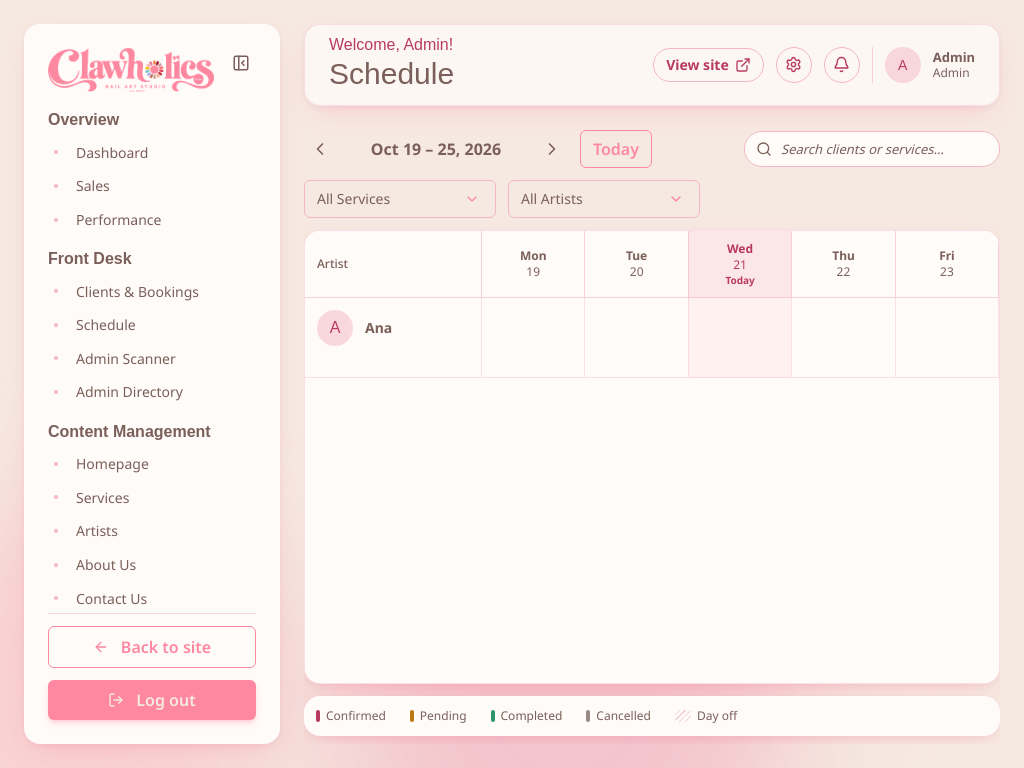
Test: Schedule on a phone › on desktop, moves a week at a time, loading both months when a week spans two
Check: the table named "Week schedule" is shown, box [305,230,1000,378]
Click the button named "Next week".
click(552, 148)  # box [536,132,568,164]
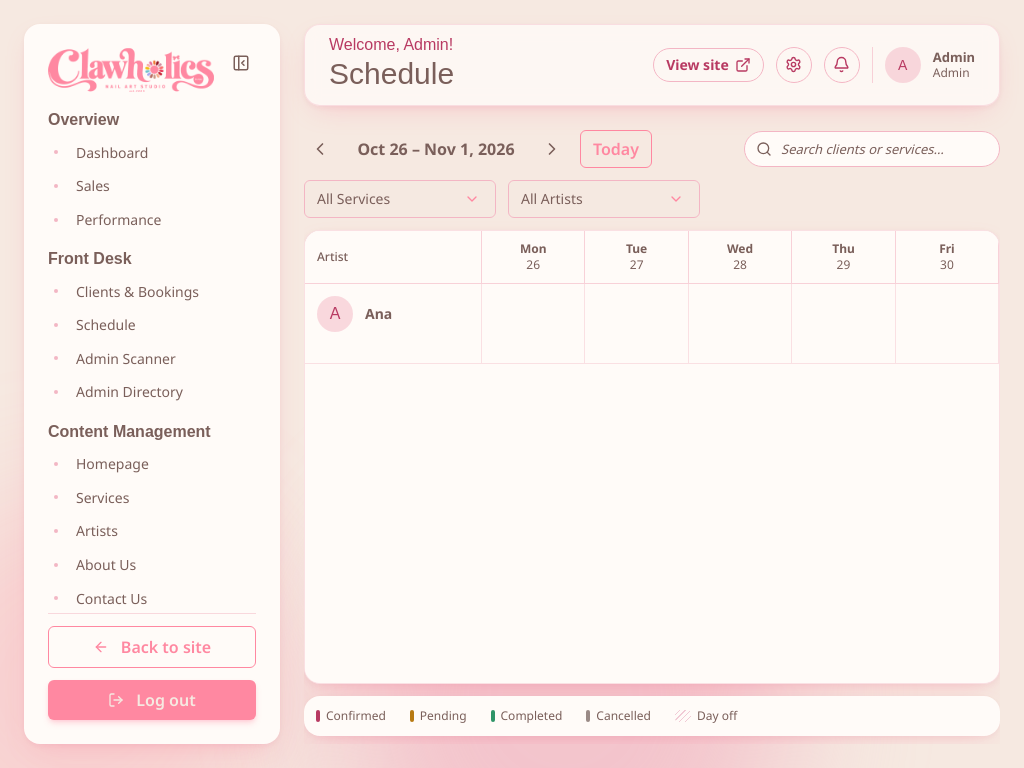
Check: the heading "Oct 26 – Nov 1, 2026" is shown, box [357,138,514,160]
Click the button "Today".
click(616, 148)  # box [580,130,652,168]
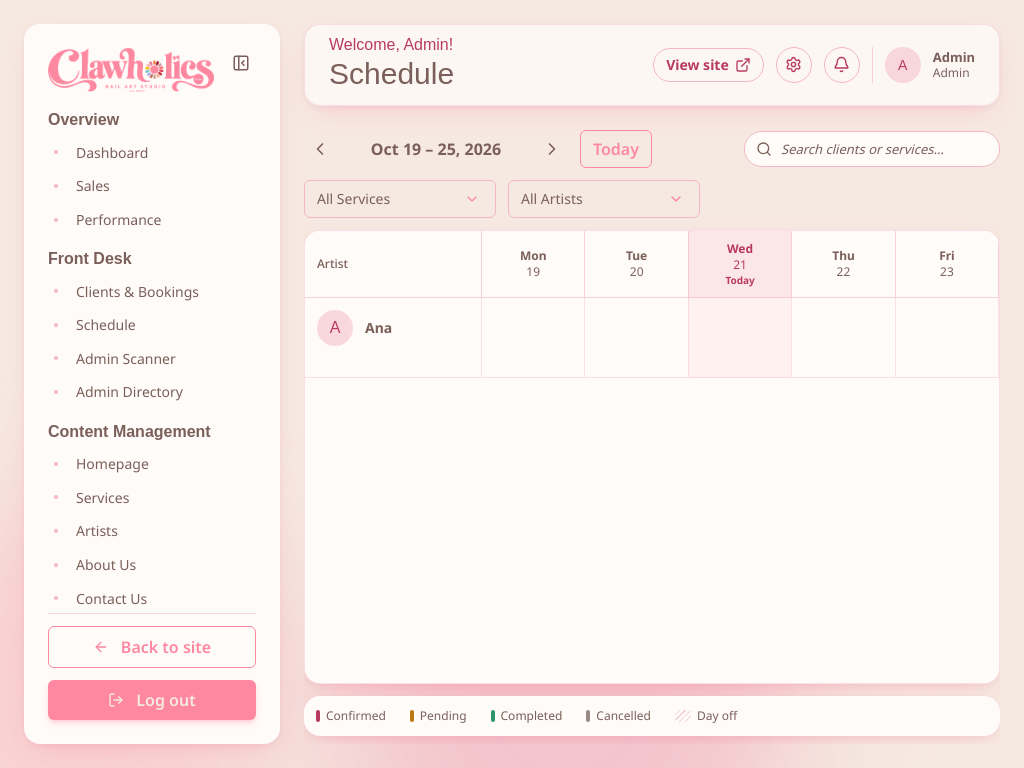
Check: the heading "Oct 19 – 25, 2026" is shown, box [371,138,501,160]
